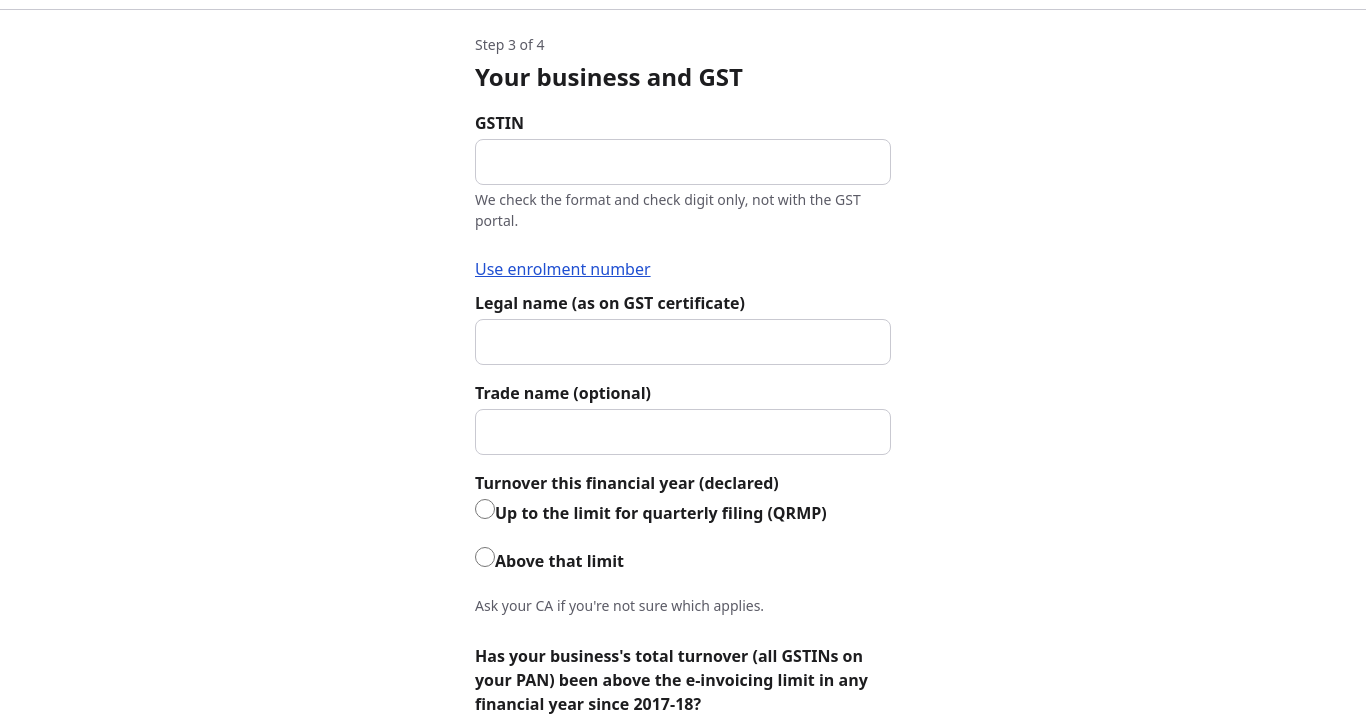
Scenario: saving the business › sends an enrolment number with its state, and no frequency
Expected: the heading "Your business and GST" is shown, [475,60,743,93]
Click the button "Use enrolment number": (571, 269) [475,247,667,291]
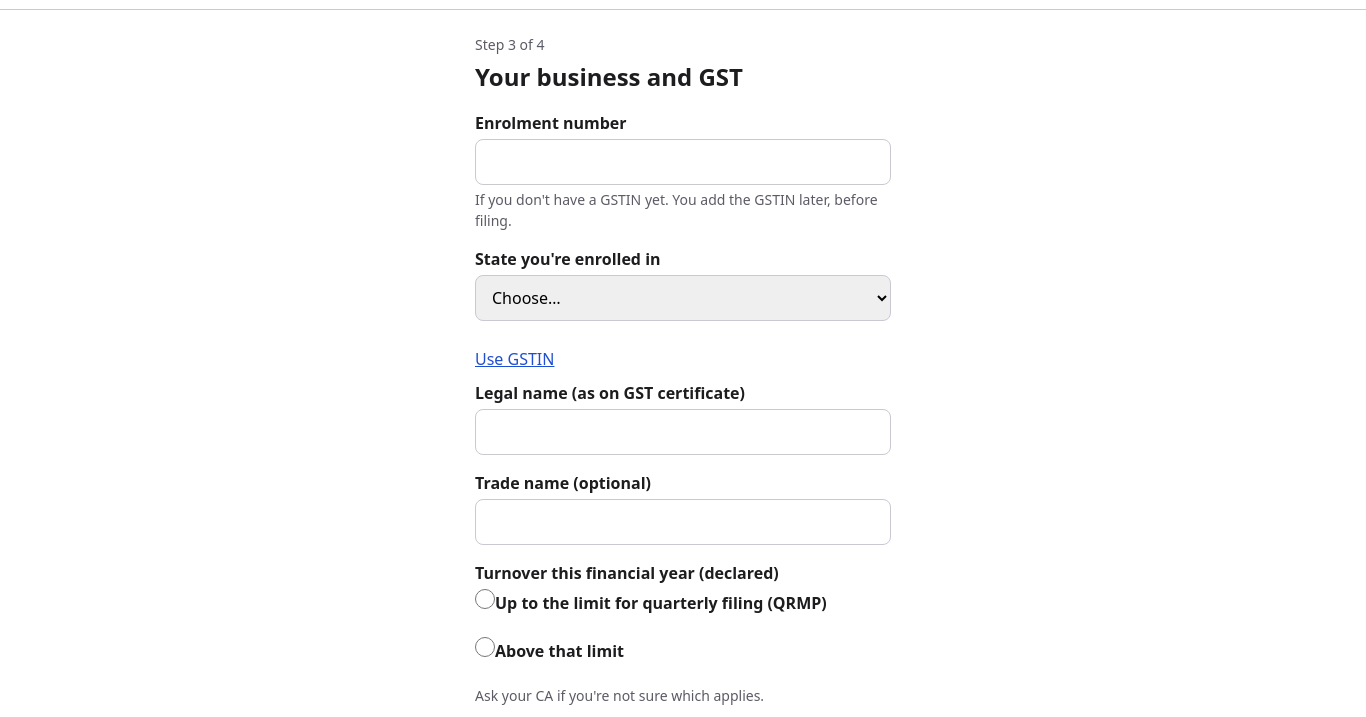
In the field labelled "Enrolment number": (683, 162) [475,139,891,185], type " EN123 "
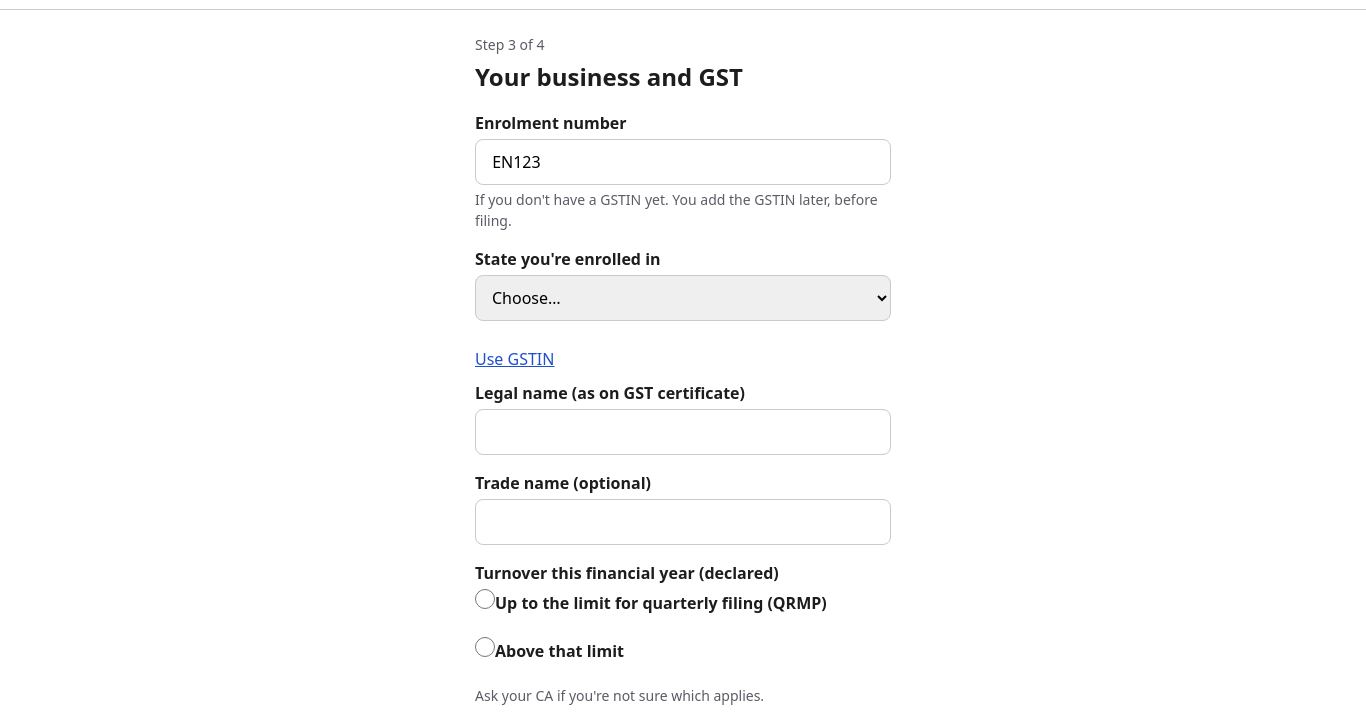
Select "West Bengal (19)" in the dropdown labelled "State you're enrolled in": (683, 298) [475,275,891,321]
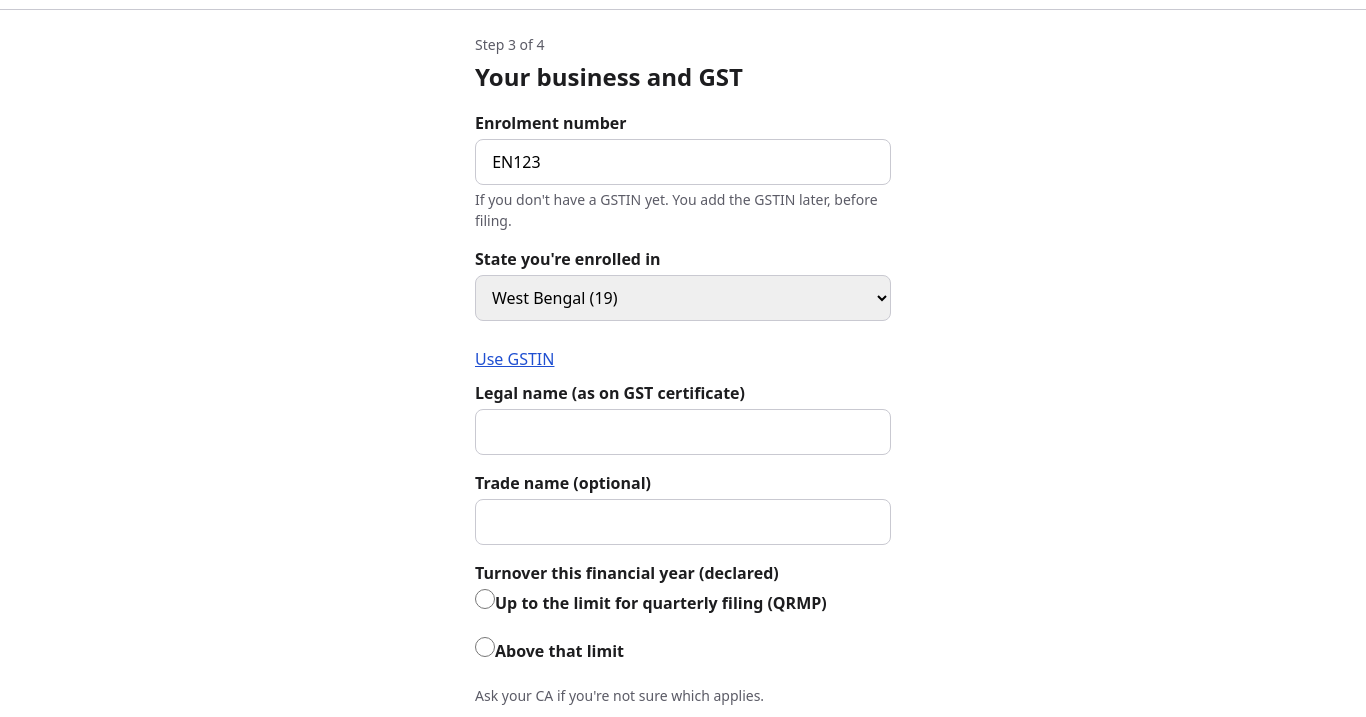
Click the radio button labelled "Up to the limit for quarterly filing (QRMP)": (485, 599) [475,589,495,609]
(page scrolled)
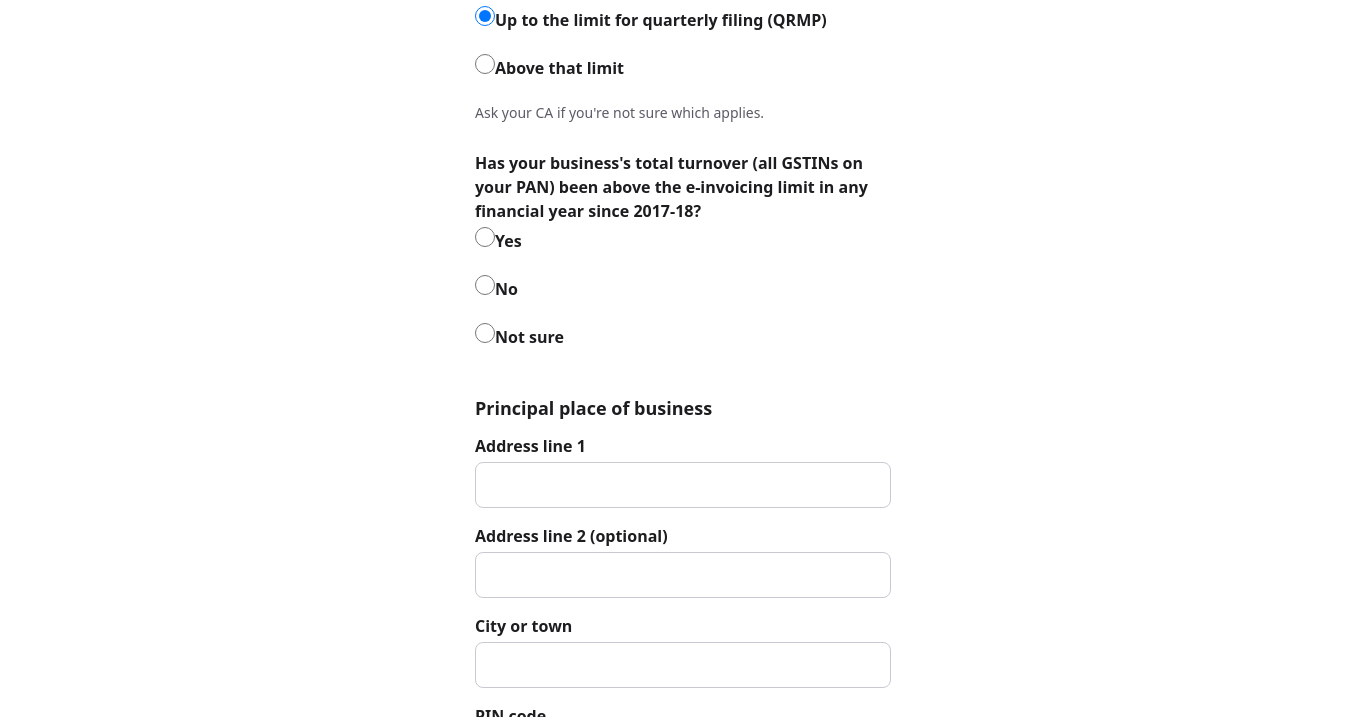
Click the radio button labelled "Not sure": (485, 333) [475,323,495,343]
(page scrolled)
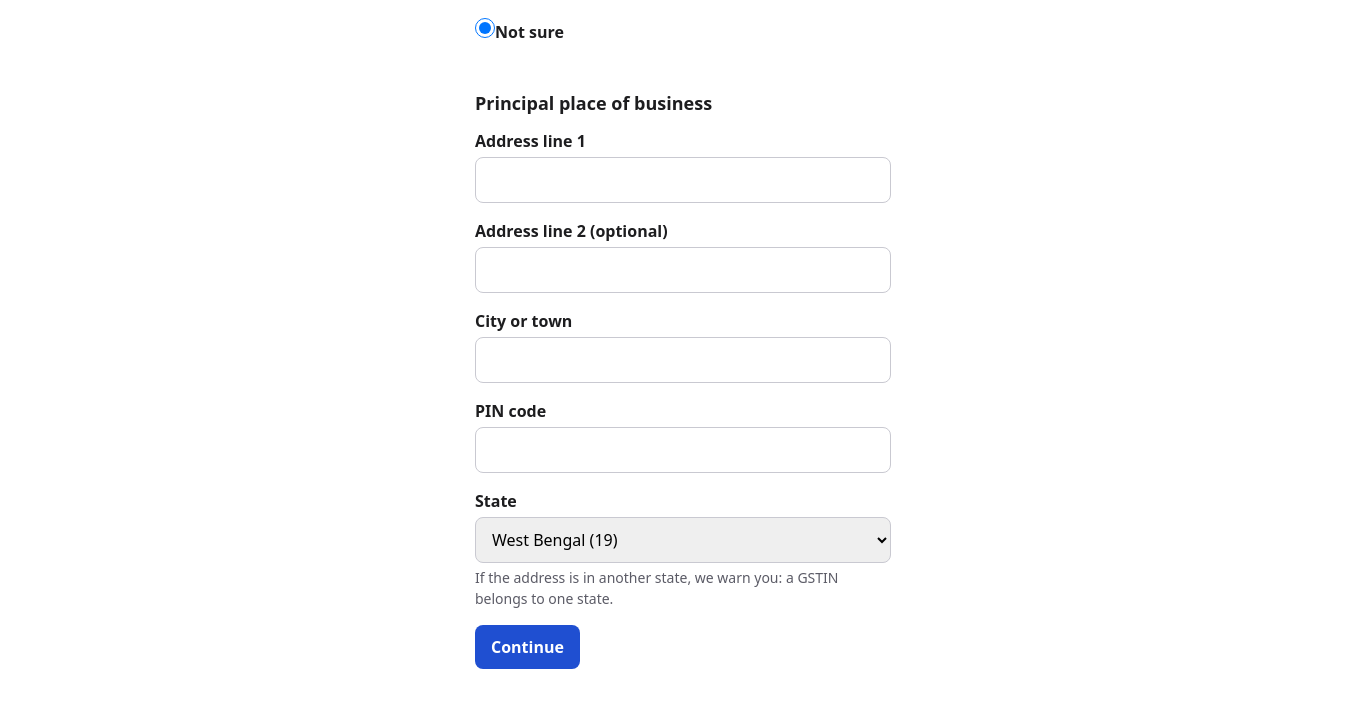
Click the button "Continue": (527, 647) [475,625,580,669]
(page scrolled)
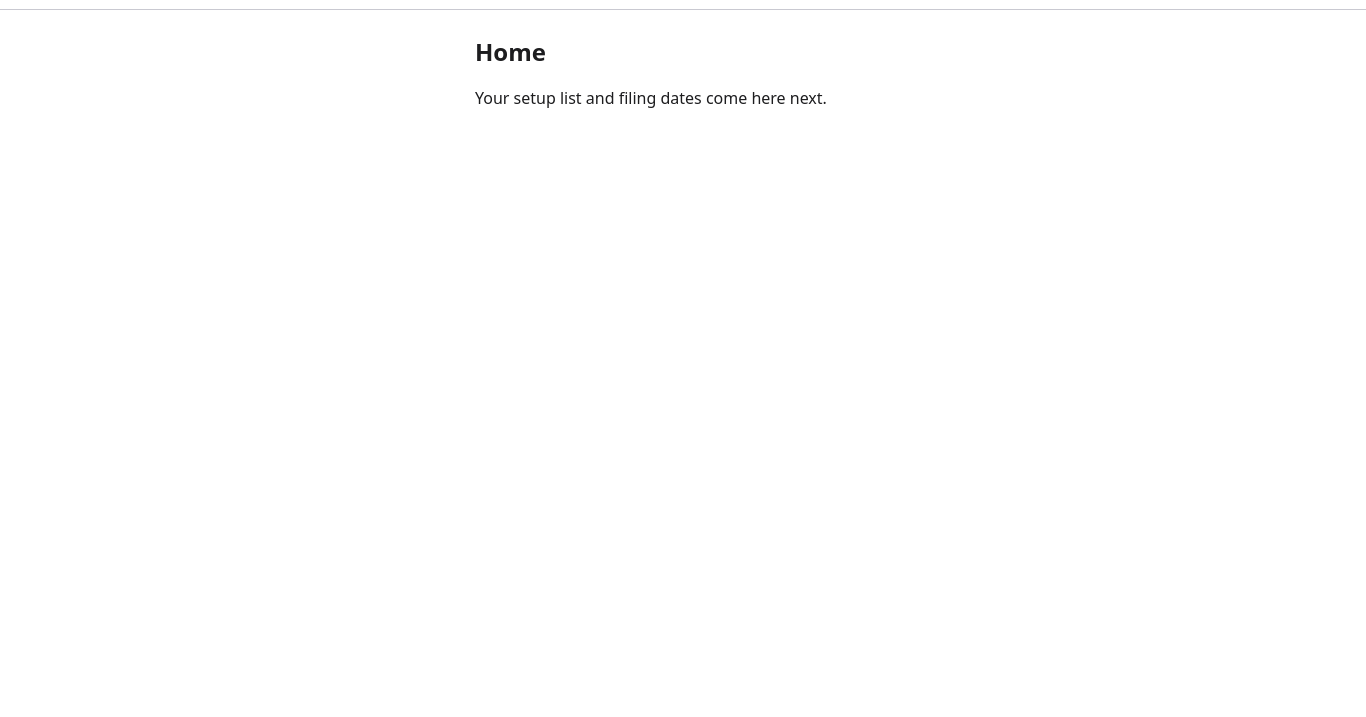
Expected: the heading "Home" is shown, [475,35,546,68]
